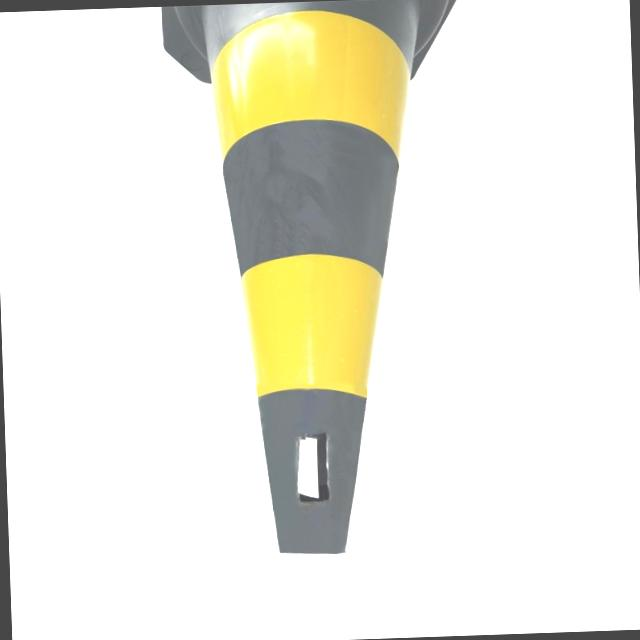cone: (138, 0, 500, 571)
